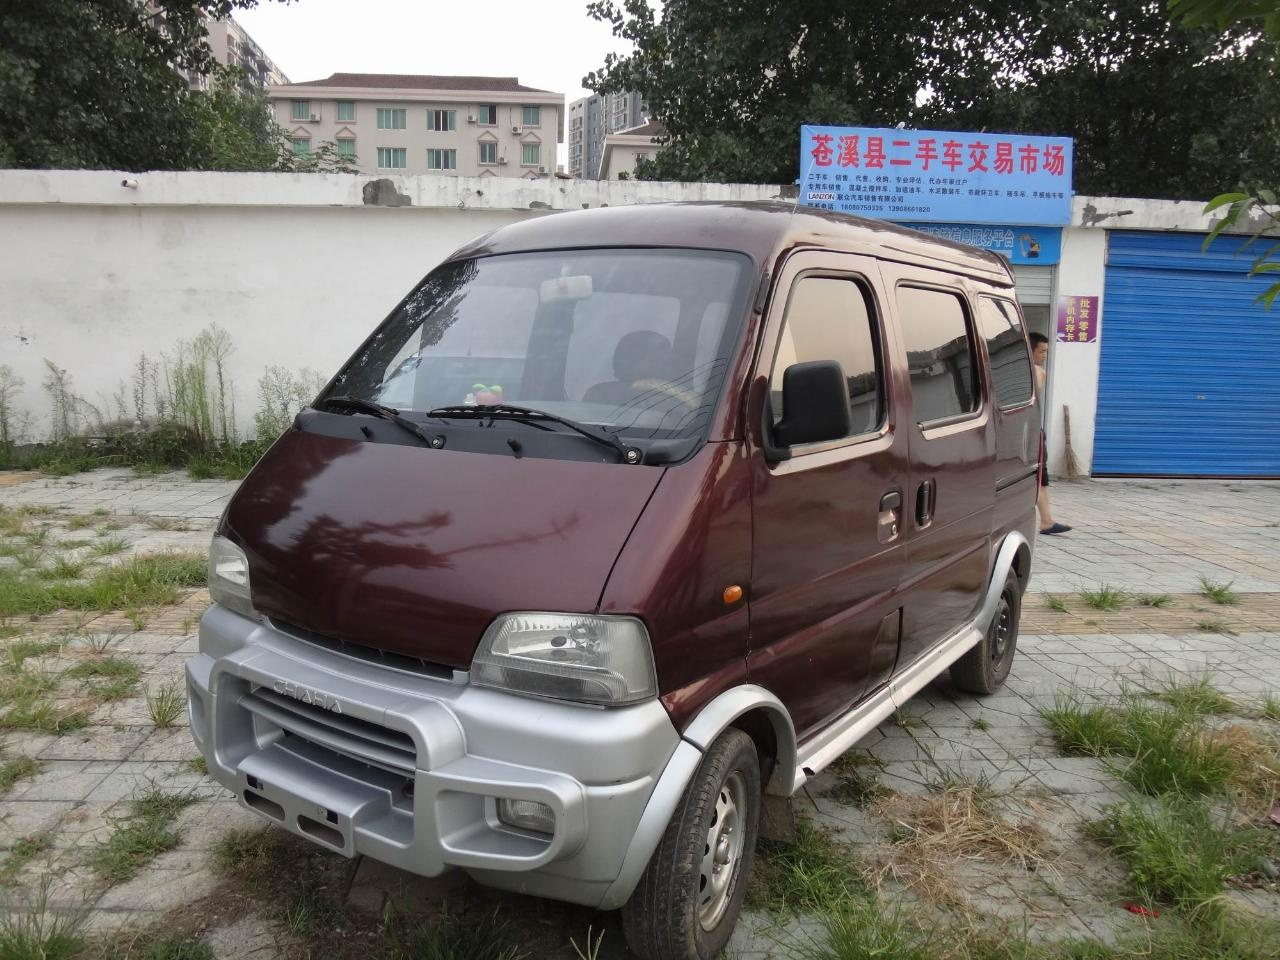minibus: (199, 202, 1035, 946)
